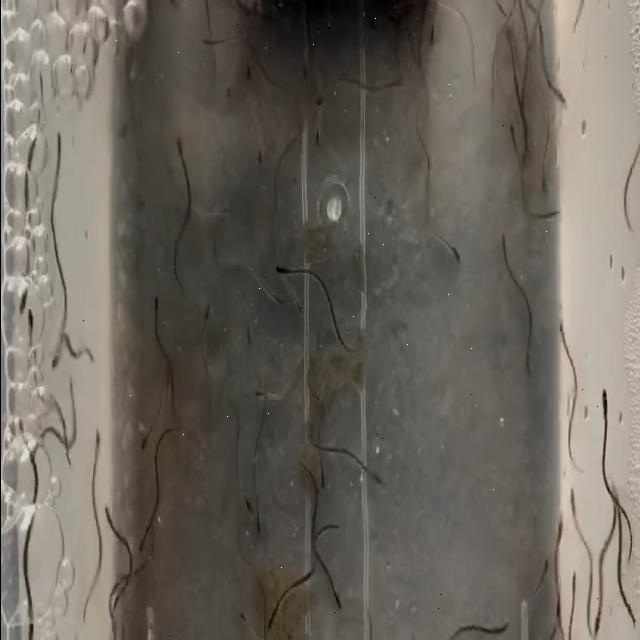active_glass_eel: (546, 67, 570, 111), (552, 498, 570, 556), (235, 486, 257, 528), (173, 124, 189, 180), (22, 310, 38, 366), (289, 280, 307, 328), (493, 221, 512, 265), (212, 200, 238, 232), (15, 270, 33, 314), (384, 66, 410, 96), (272, 250, 294, 284), (252, 132, 270, 173), (605, 482, 621, 528), (50, 326, 66, 372), (562, 488, 580, 528), (540, 201, 564, 231), (238, 600, 256, 639), (88, 420, 105, 460), (540, 140, 552, 196), (260, 282, 284, 310), (372, 466, 394, 496), (491, 609, 516, 635), (310, 114, 328, 150), (326, 580, 342, 620), (136, 518, 152, 558), (586, 601, 602, 640), (250, 493, 264, 537), (239, 320, 257, 354), (136, 424, 154, 458), (22, 606, 40, 640), (311, 81, 331, 111), (238, 53, 256, 86), (265, 604, 281, 640), (594, 381, 608, 421), (104, 498, 118, 538), (200, 304, 213, 346), (506, 107, 518, 152), (557, 306, 569, 350), (151, 288, 165, 324), (426, 18, 441, 51), (445, 241, 462, 269), (566, 562, 580, 594), (219, 81, 235, 109), (314, 466, 330, 494), (542, 552, 552, 596), (254, 378, 272, 402), (294, 58, 308, 86), (198, 29, 213, 54)
